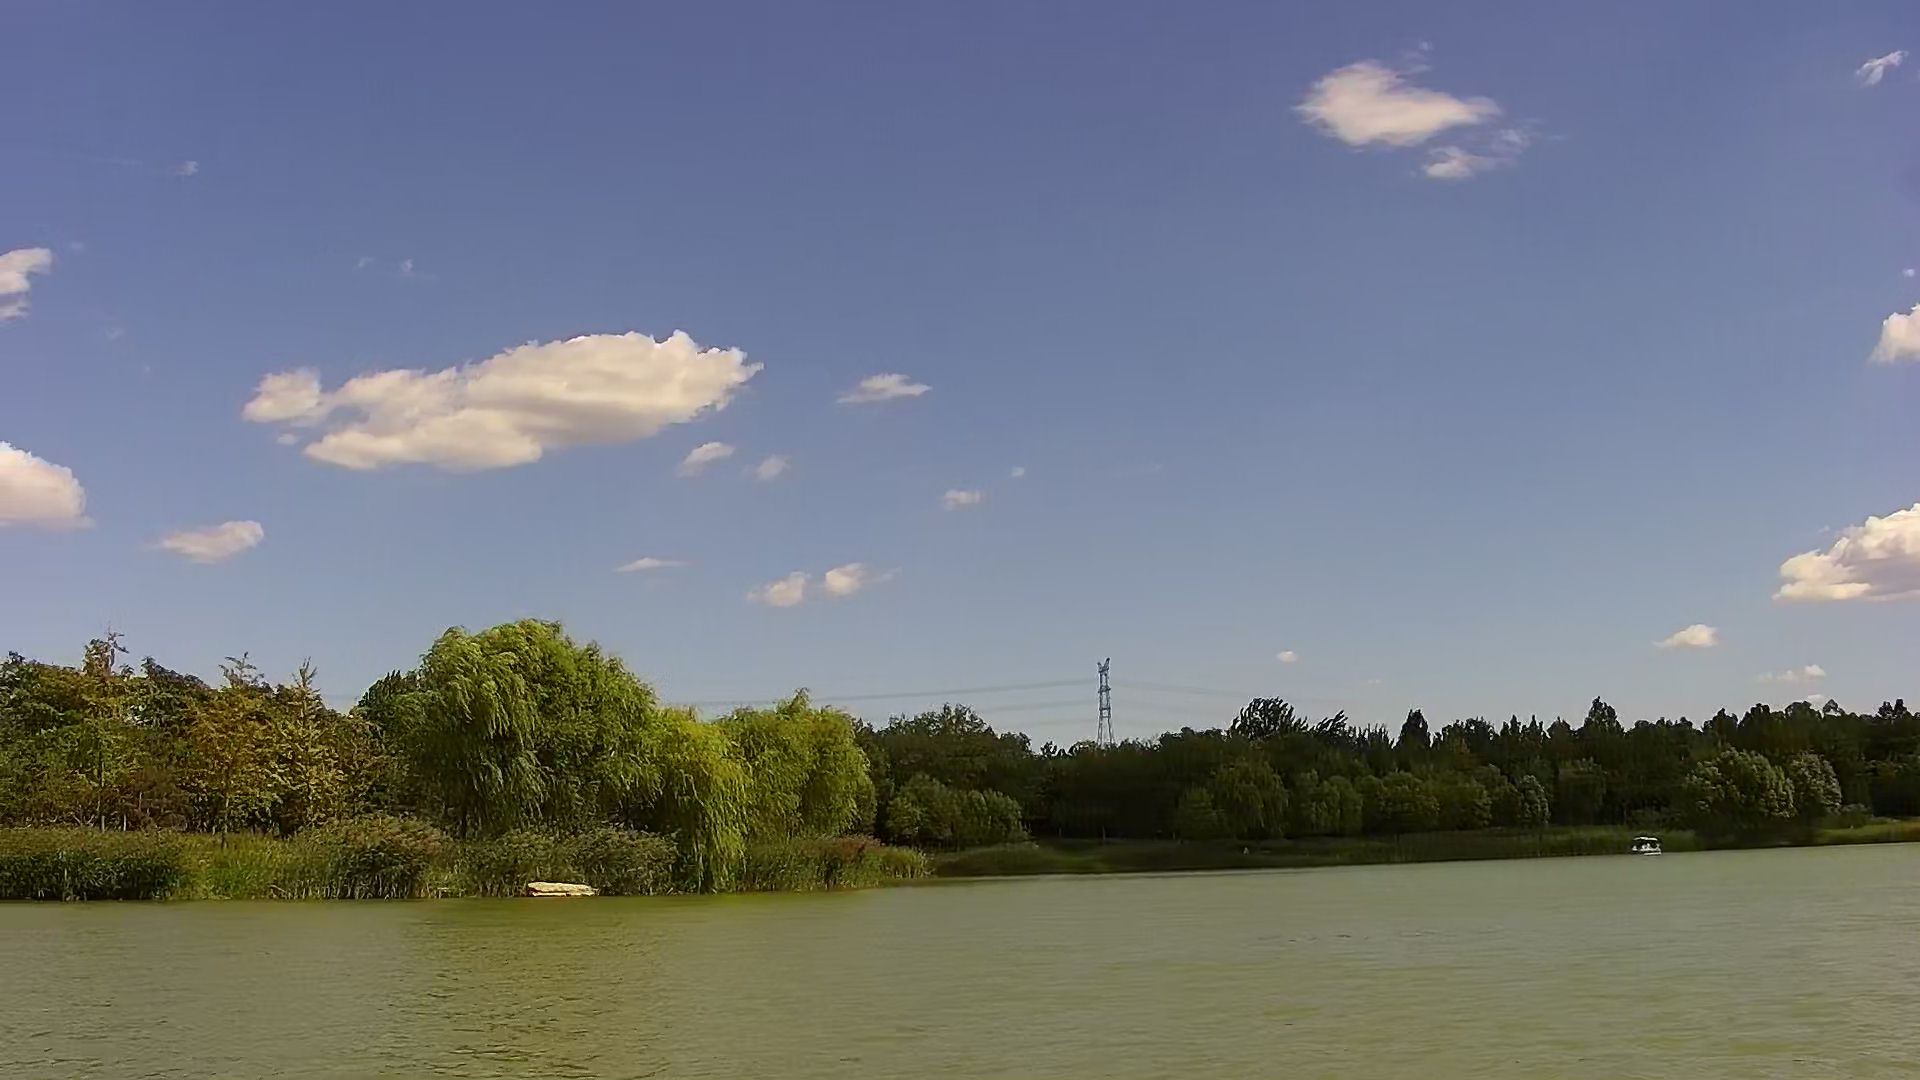boat: (1629, 836, 1664, 855)
